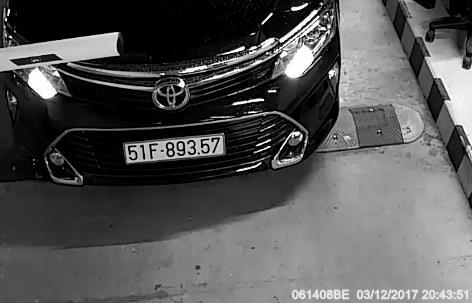License-plate: (121, 129, 228, 170)
